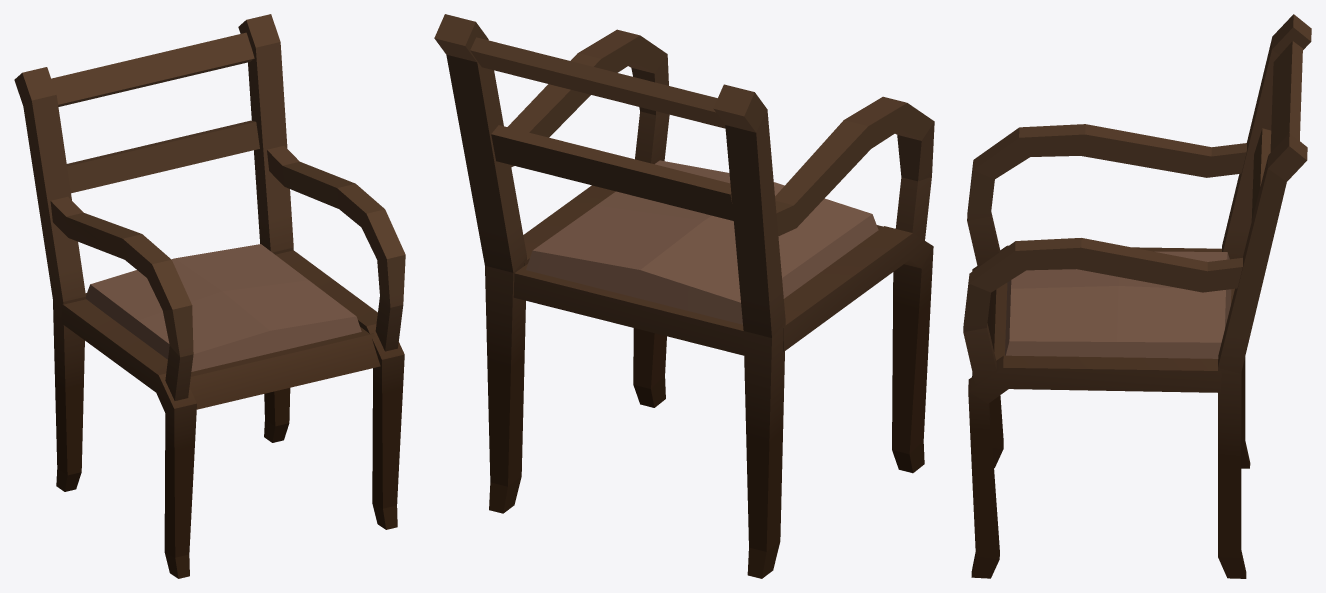
Rendered from Chair 3.glb.
3 views of the same model, side by side, from view 1: azimuth 30°, elevation 25°; view 2: azimuth 150°, elevation 25°; view 3: azimuth 270°, elevation 25° (orthographic). The views are drawn at different scales.
Visible parts, largest first — view 1: Chair 3; view 2: Chair 3; view 3: Chair 3.
Boxes of the visible parts, left/top/right/bottom form: Chair 3: left=14, top=14, right=405, bottom=578; Chair 3: left=434, top=14, right=934, bottom=578; Chair 3: left=963, top=14, right=1311, bottom=578.
Size of what is drawn, in the model's own units: 0.7586 by 1.18 by 0.8446.
1 material, 1 textured.
